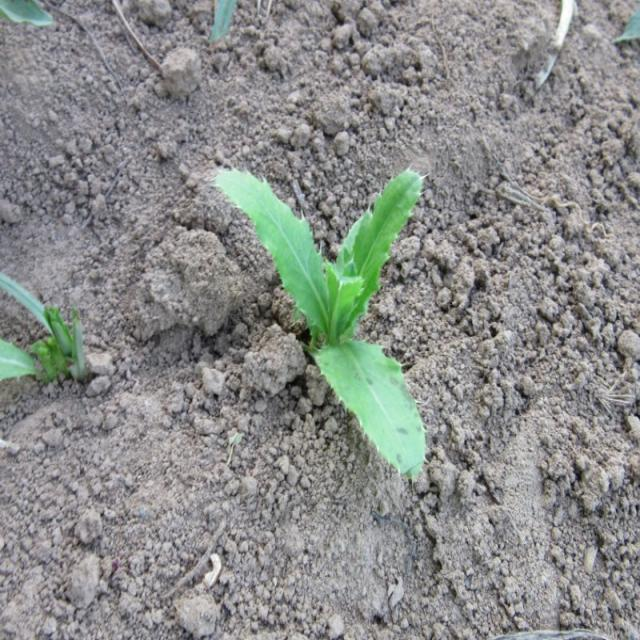cs: (212, 159, 432, 489)
